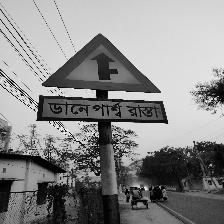Side-road-right: (37, 35, 167, 123)
